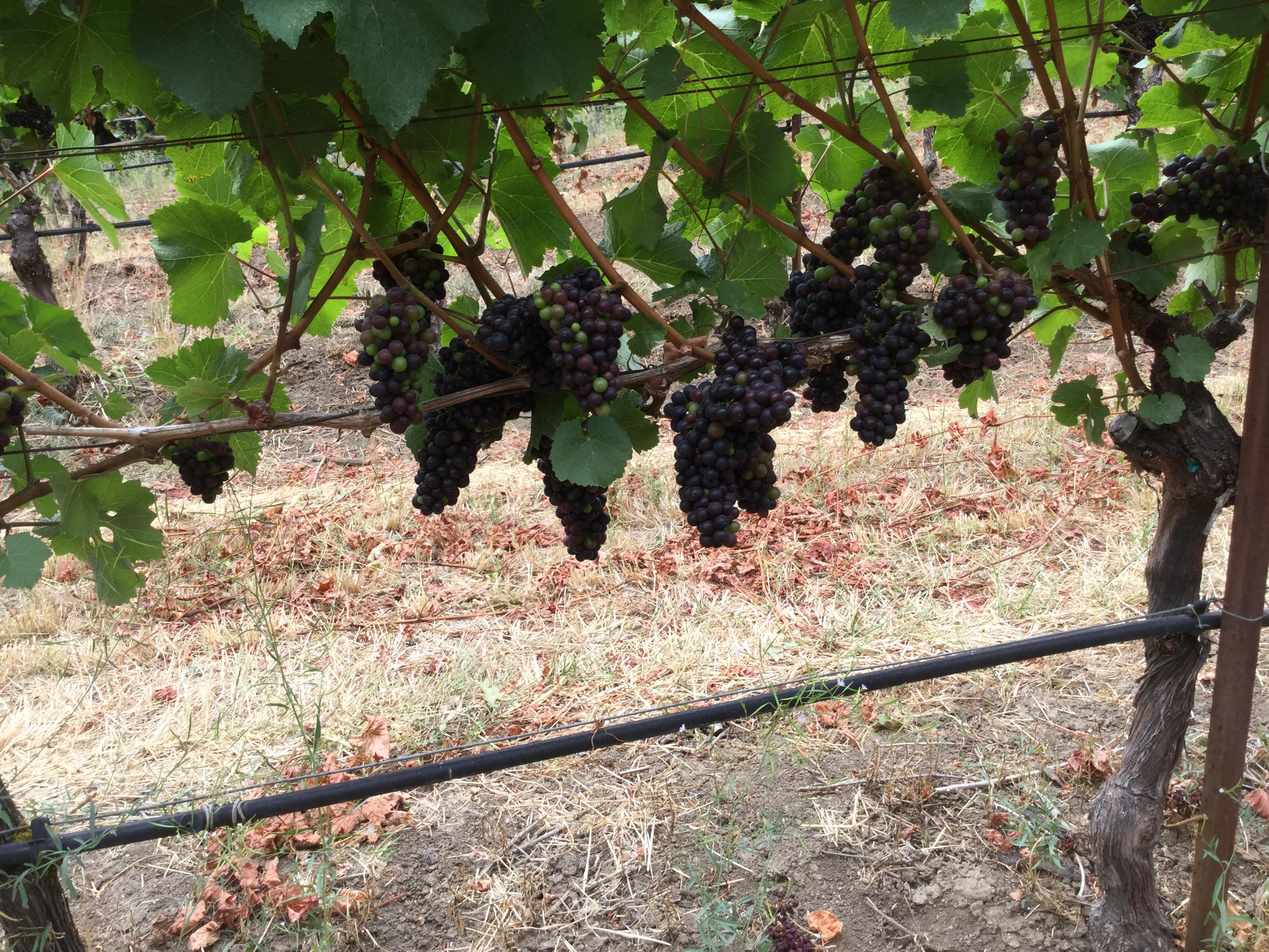leaf: (330, 0, 498, 135), (0, 0, 159, 120), (39, 457, 161, 604), (130, 0, 262, 118), (457, 0, 604, 103), (150, 198, 251, 327), (490, 151, 570, 275), (764, 0, 857, 100), (54, 126, 126, 248), (397, 77, 475, 182), (235, 97, 336, 177), (722, 110, 801, 206), (607, 135, 670, 249), (606, 216, 703, 284), (51, 535, 144, 605), (795, 126, 875, 207), (1086, 136, 1158, 224), (718, 231, 787, 317), (550, 416, 633, 487), (23, 296, 100, 372), (1136, 82, 1211, 159), (145, 338, 250, 391), (262, 30, 344, 97), (159, 109, 234, 182), (907, 39, 974, 118), (524, 390, 586, 462), (243, 0, 330, 47), (290, 200, 324, 320), (1051, 374, 1110, 443), (603, 0, 676, 49), (1047, 210, 1108, 268), (610, 390, 659, 452), (0, 532, 52, 588), (643, 43, 690, 102), (888, 0, 967, 35), (1201, 0, 1268, 38), (1162, 335, 1215, 382), (939, 182, 1002, 221), (1031, 295, 1080, 345), (175, 377, 232, 415), (1166, 285, 1213, 329), (958, 369, 997, 418), (717, 279, 764, 319), (671, 299, 717, 338), (625, 312, 665, 355), (535, 255, 593, 284), (225, 431, 262, 475), (1136, 392, 1185, 424), (1047, 324, 1073, 378), (1025, 242, 1052, 288), (858, 105, 889, 144), (926, 242, 963, 273), (732, 0, 784, 21), (918, 343, 963, 366), (474, 117, 493, 164), (767, 97, 800, 119), (480, 81, 496, 99), (384, 58, 397, 80), (828, 105, 845, 120), (392, 27, 400, 47), (279, 281, 287, 299), (517, 50, 530, 61), (41, 506, 53, 514), (268, 182, 273, 194), (448, 4, 465, 7), (260, 214, 271, 217), (542, 275, 547, 281), (758, 39, 764, 43), (500, 156, 504, 159), (861, 103, 865, 105), (573, 236, 575, 240), (715, 167, 717, 170), (282, 0, 288, 1), (358, 0, 364, 1), (469, 60, 470, 65), (542, 90, 546, 91), (472, 189, 474, 191), (348, 0, 351, 1), (508, 63, 509, 65), (425, 27, 426, 28), (759, 47, 760, 48), (667, 8, 667, 9), (579, 94, 579, 95), (482, 103, 482, 110), (420, 97, 421, 97), (429, 76, 429, 81)
